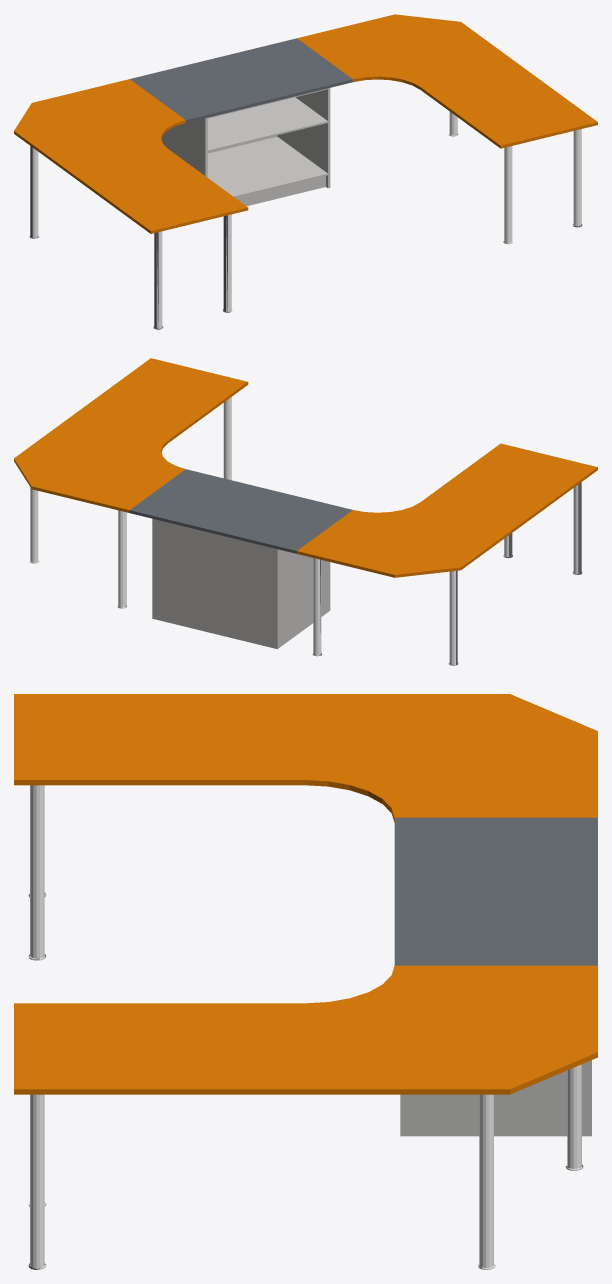
The picture shows the model from 3 angles, top to bottom: view 1: azimuth 30°, elevation 25°; view 2: azimuth 150°, elevation 25°; view 3: azimuth 270°, elevation 25°; orthographic projection. The views are drawn at different scales.
Visible parts, largest first — view 1: node0; view 2: node0; view 3: node0.
Part boxes in pixels (<box>): node0: <box>14,14,597,329</box>; node0: <box>14,358,597,665</box>; node0: <box>14,694,597,1269</box>.
Size of the model in its own units: 3.19 by 1.99 by 0.714.
